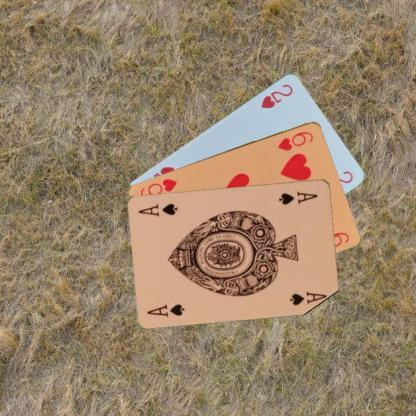2h: (258, 81, 294, 110)
6h: (275, 129, 315, 152)
As: (276, 188, 319, 206), (144, 301, 186, 318)
